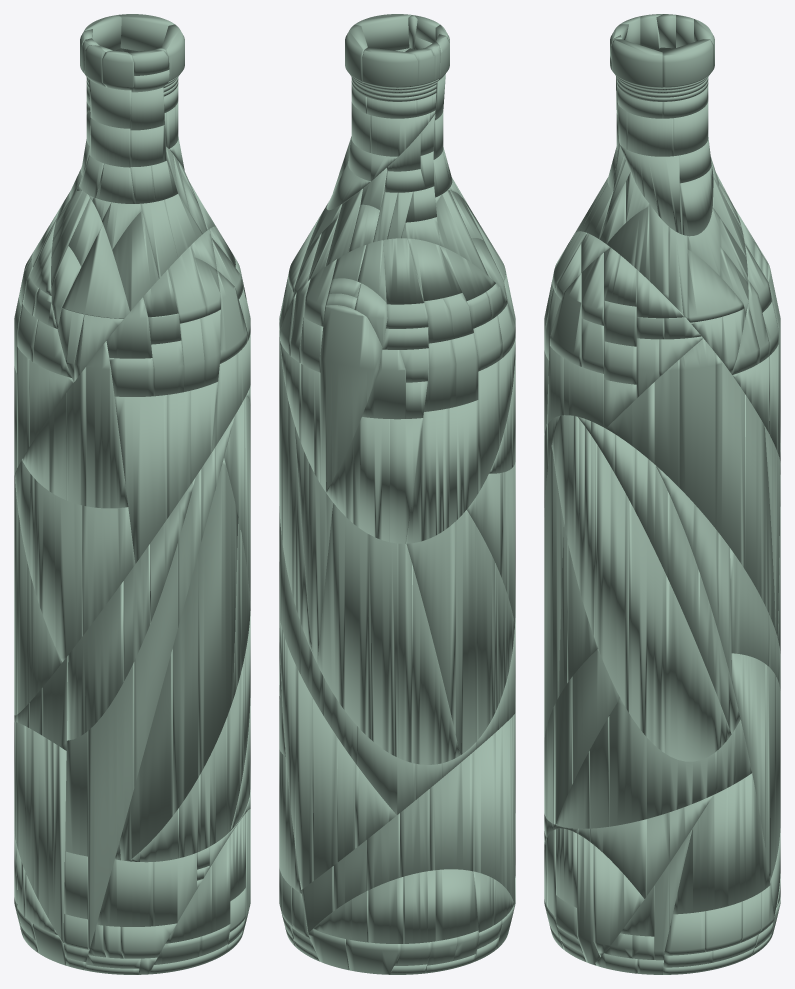
The model's file is collision-hulls.glb.
3 views of the same model, side by side, from view 1: azimuth 30°, elevation 25°; view 2: azimuth 150°, elevation 25°; view 3: azimuth 270°, elevation 25° (orthographic).
Parts seen in each view (by area): view 1: fragment-030-hull-00, fragment-023-hull-04, fragment-005-hull-04, fragment-001-hull-12, fragment-022-hull-02, fragment-030-hull-02, fragment-030-hull-01, fragment-027-hull-00, fragment-026-hull-00, fragment-023-hull-03, fragment-026-hull-01, fragment-003-hull-18 (+85 smaller); view 2: fragment-011-hull-02, fragment-020-hull-11, fragment-021-hull-07, fragment-011-hull-01, fragment-010-hull-02, fragment-010-hull-03, fragment-004-hull-13, fragment-005-hull-06, fragment-002-hull-00, fragment-019-hull-02, fragment-008-hull-04, fragment-010-hull-01 (+86 smaller); view 3: fragment-016-hull-02, fragment-016-hull-01, fragment-016-hull-03, fragment-016-hull-00, fragment-008-hull-02, fragment-008-hull-03, fragment-012-hull-00, fragment-008-hull-04, fragment-012-hull-01, fragment-030-hull-00, fragment-025-hull-02, fragment-025-hull-03 (+91 smaller).
Boxes of the visible parts, x1,y1,x2,y2 form: fragment-030-hull-00: [198, 458, 238, 777]; fragment-023-hull-04: [88, 662, 134, 950]; fragment-005-hull-04: [26, 727, 66, 942]; fragment-001-hull-12: [114, 395, 167, 563]; fragment-022-hull-02: [67, 581, 123, 740]; fragment-030-hull-02: [119, 649, 172, 861]; fragment-030-hull-01: [172, 554, 198, 815]; fragment-027-hull-00: [86, 341, 128, 508]; fragment-026-hull-00: [82, 505, 135, 636]; fragment-023-hull-03: [134, 543, 177, 787]; fragment-026-hull-01: [55, 495, 82, 661]; fragment-003-hull-18: [62, 224, 129, 318]; fragment-011-hull-02: [317, 503, 398, 757]; fragment-020-hull-11: [320, 305, 382, 491]; fragment-021-hull-07: [326, 417, 389, 542]; fragment-011-hull-01: [412, 563, 460, 764]; fragment-010-hull-02: [455, 510, 476, 754]; fragment-010-hull-03: [406, 522, 455, 733]; fragment-004-hull-13: [406, 408, 449, 543]; fragment-005-hull-06: [429, 752, 472, 871]; fragment-002-hull-00: [295, 426, 333, 663]; fragment-019-hull-02: [312, 698, 336, 881]; fragment-008-hull-04: [283, 372, 312, 652]; fragment-010-hull-01: [476, 527, 495, 740]; fragment-016-hull-02: [629, 500, 665, 753]; fragment-016-hull-01: [595, 442, 628, 712]; fragment-016-hull-03: [666, 575, 731, 761]; fragment-016-hull-00: [552, 415, 595, 639]; fragment-008-hull-02: [679, 338, 715, 528]; fragment-008-hull-03: [715, 353, 744, 569]; fragment-012-hull-00: [673, 788, 728, 914]; fragment-008-hull-04: [745, 394, 775, 631]; fragment-012-hull-01: [728, 773, 770, 905]; fragment-030-hull-00: [544, 445, 563, 736]; fragment-025-hull-02: [609, 698, 646, 826]; fragment-025-hull-03: [647, 738, 717, 818].
Size of the model in its own units: 0.072 by 0.3 by 0.072.
